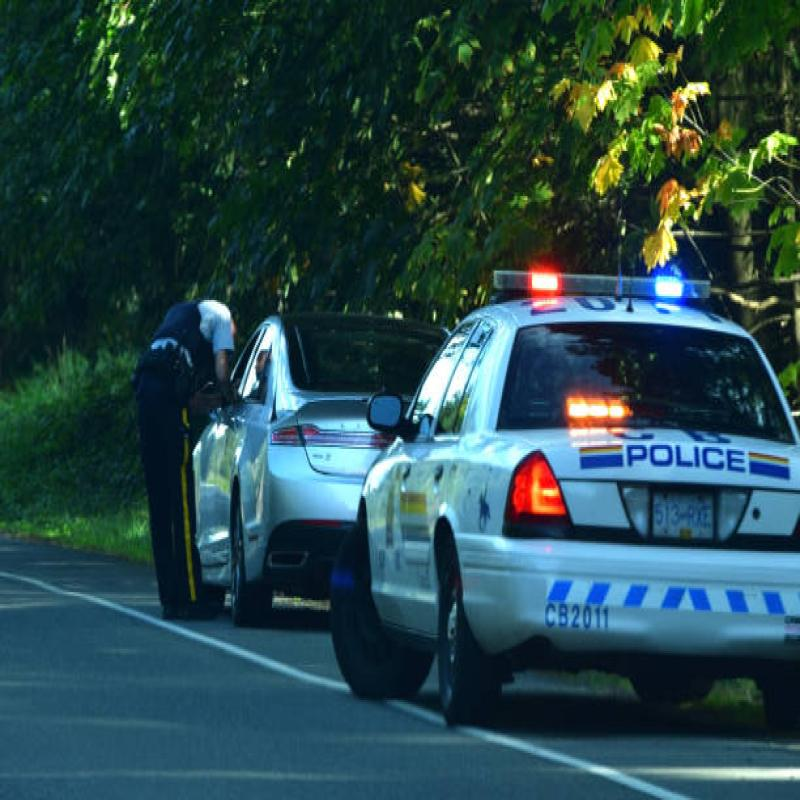AmbulanceSiren: (484, 248, 716, 322)
car: (371, 290, 800, 704), (215, 310, 370, 573)
